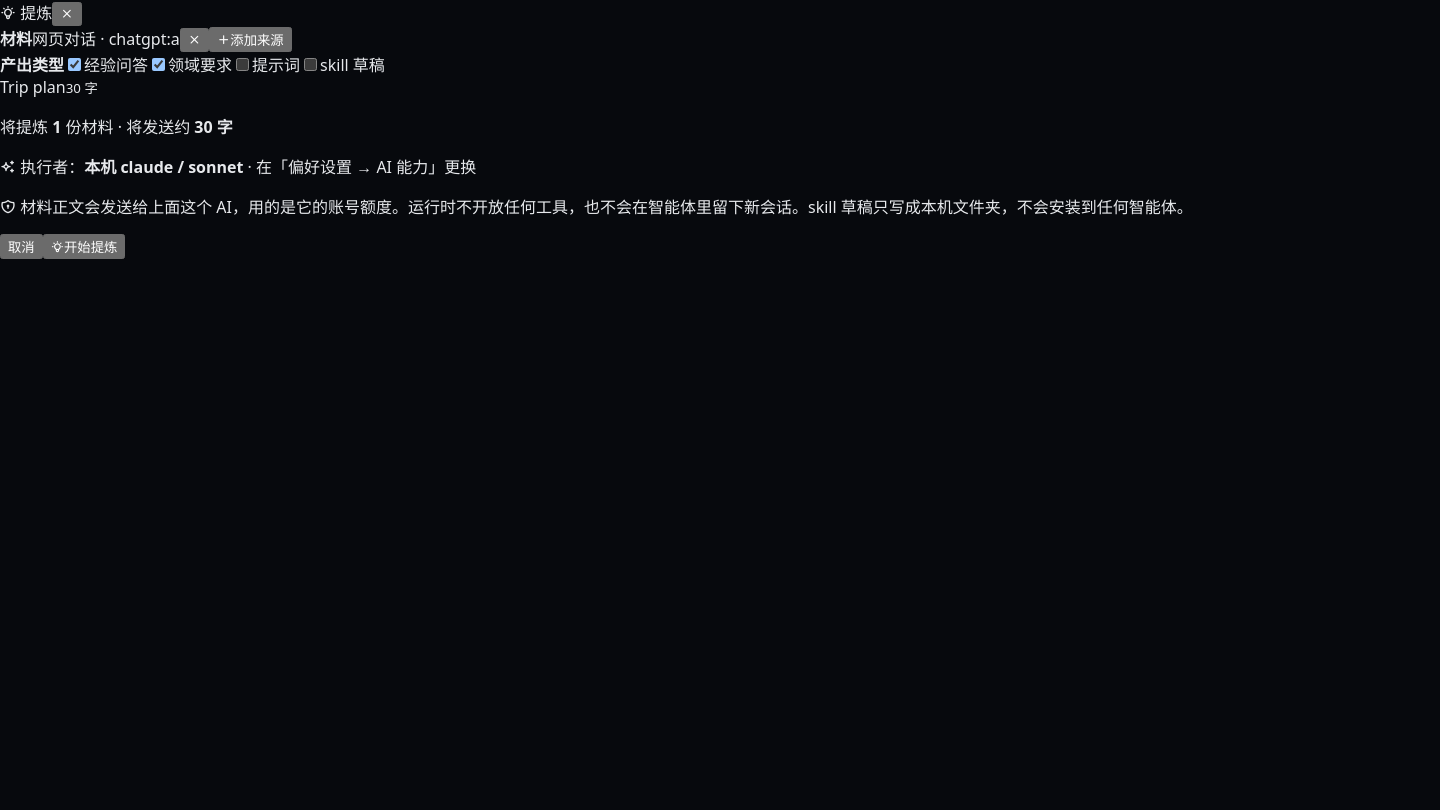
Test: distill dialog › shows the red alert for an actual failure
Click the button "开始提炼": (84, 246) x1=43 y1=234 x2=125 y2=259
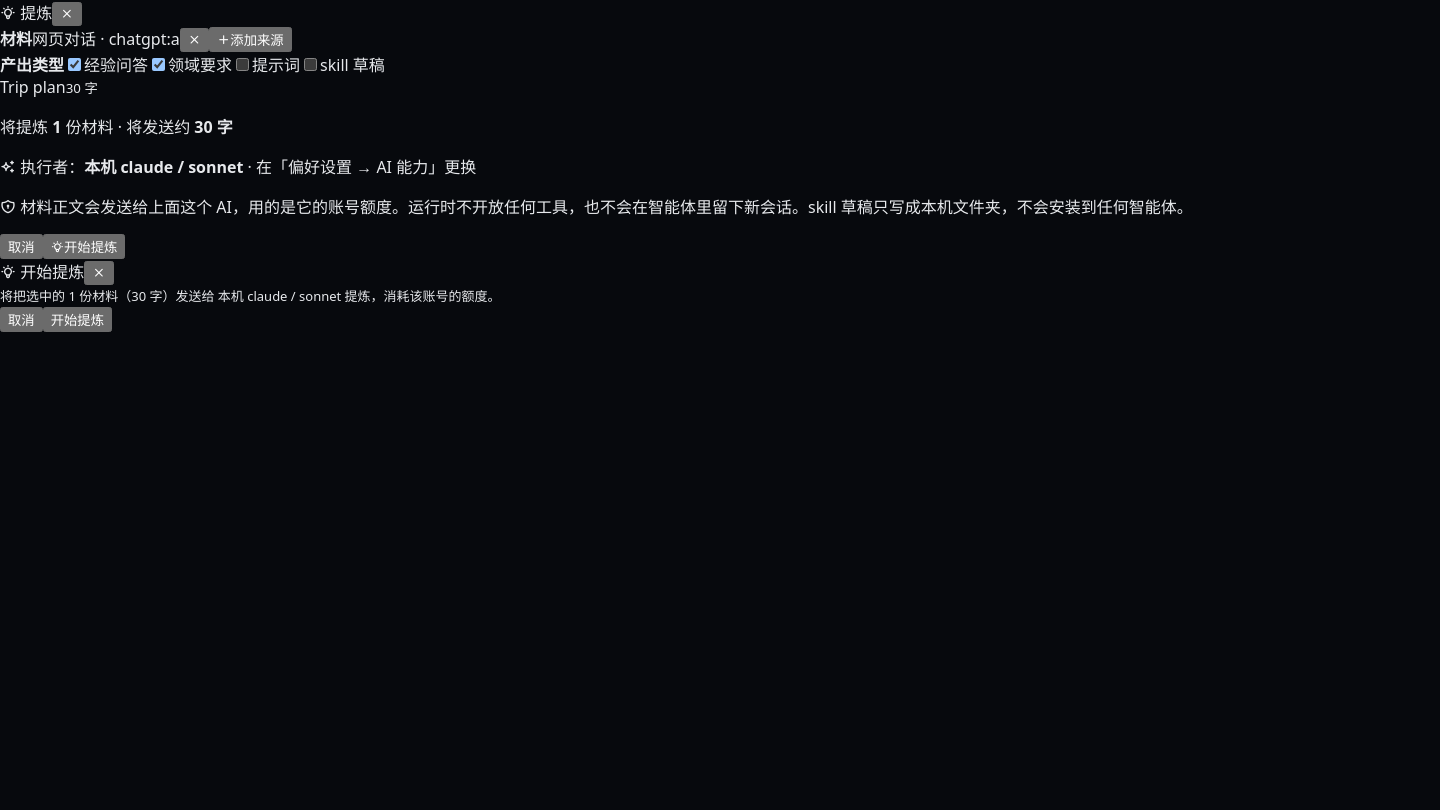
Check: the 2nd button "开始提炼" is shown
Click the 2nd button "开始提炼": (77, 320) x1=43 y1=307 x2=112 y2=332
Wait 1110 ms
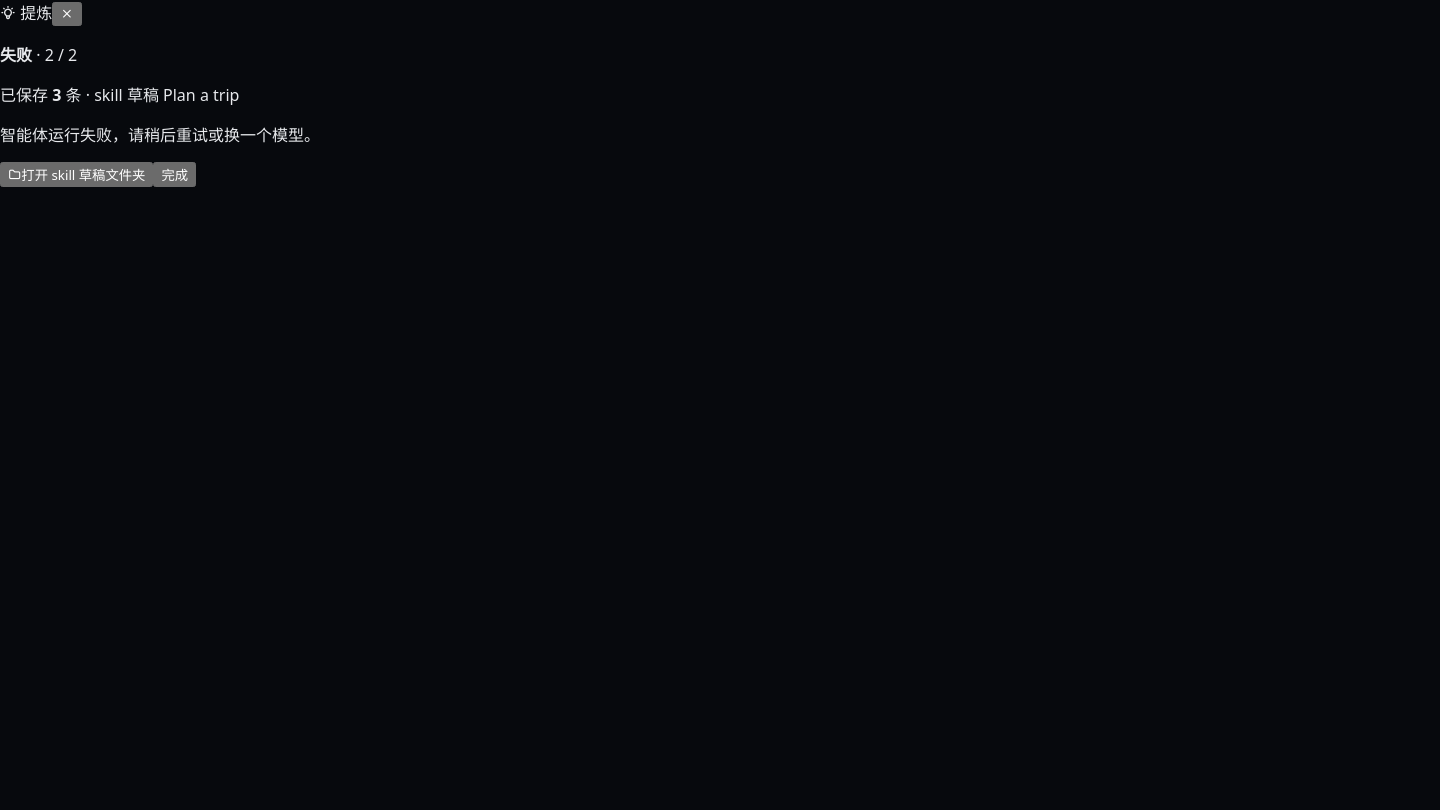
Check: the message "智能体运行失败，请稍后重试或换一个模型。" is shown, box x1=0 y1=124 x2=320 y2=146
